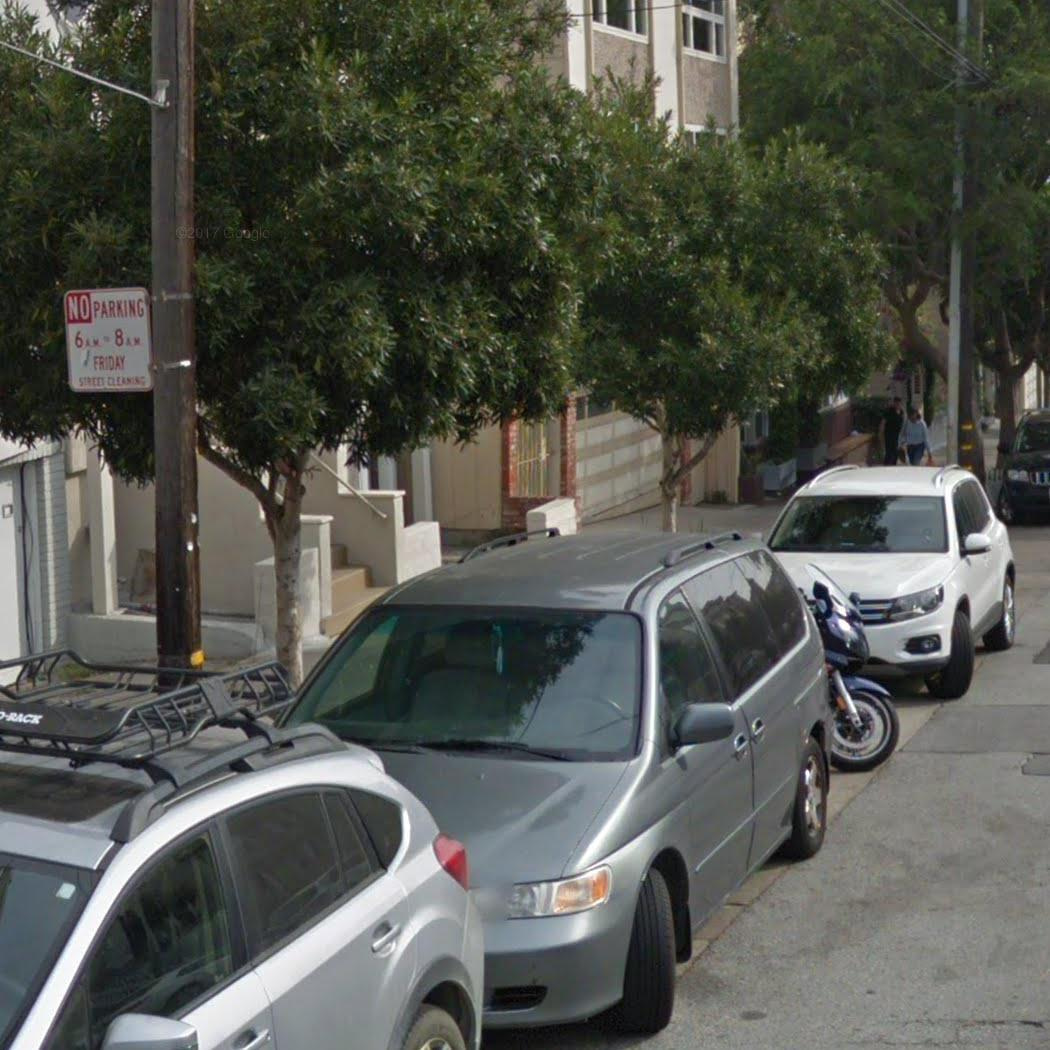No Parking: (60, 284, 154, 393)
